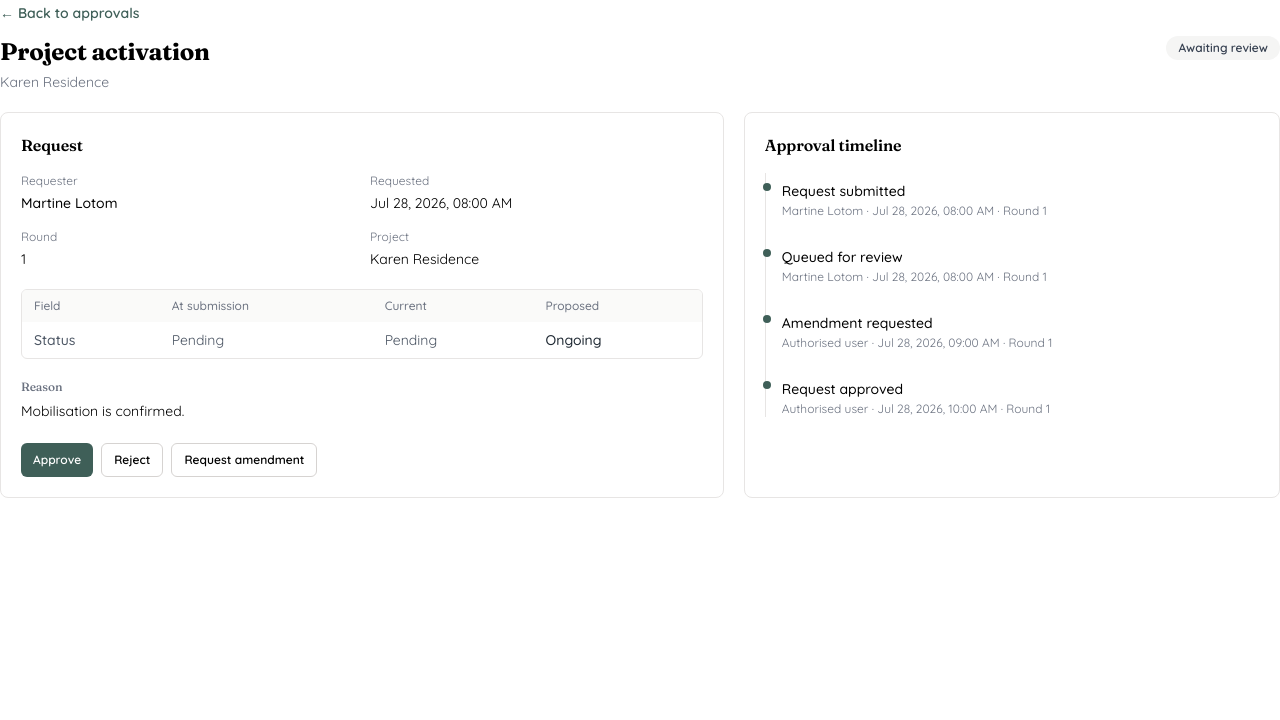
Test: Admin approval detail › handles network rejection without a false success state
Click the button "Approve". click: (57, 460)
box: [21,443,93,477]
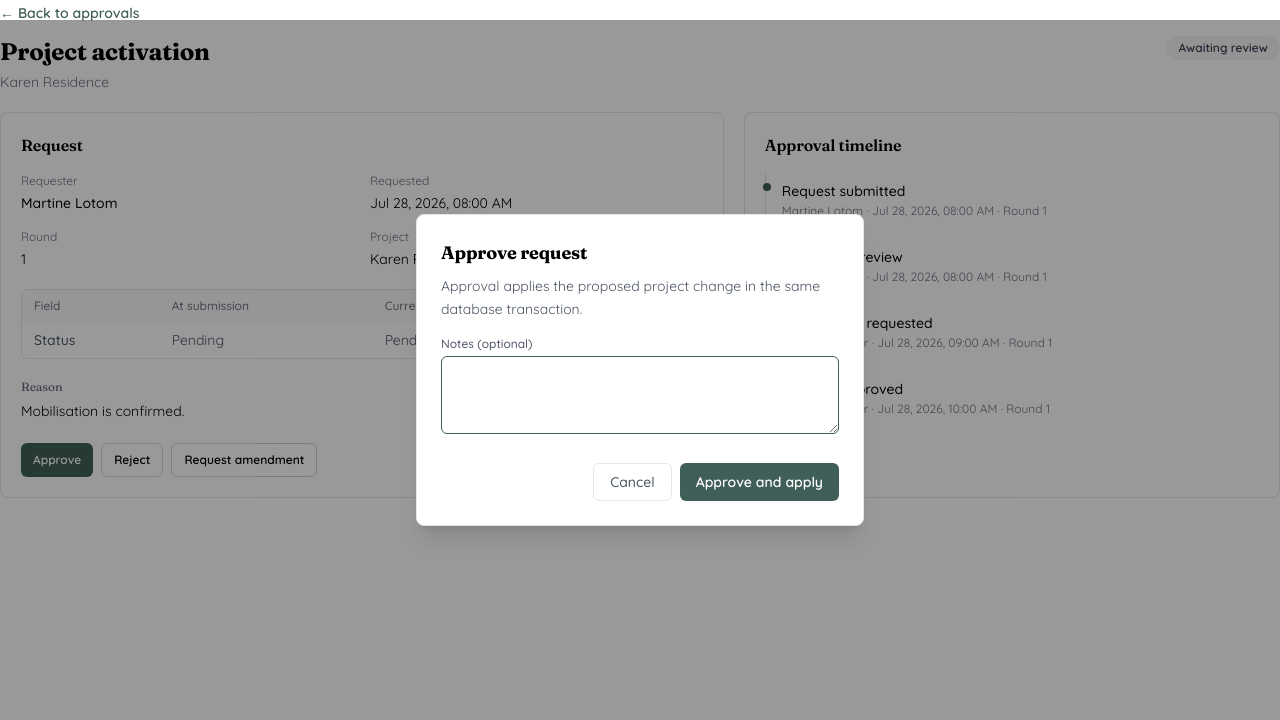
Click the button "Approve and apply". click: (759, 482)
box: [680,463,839,501]
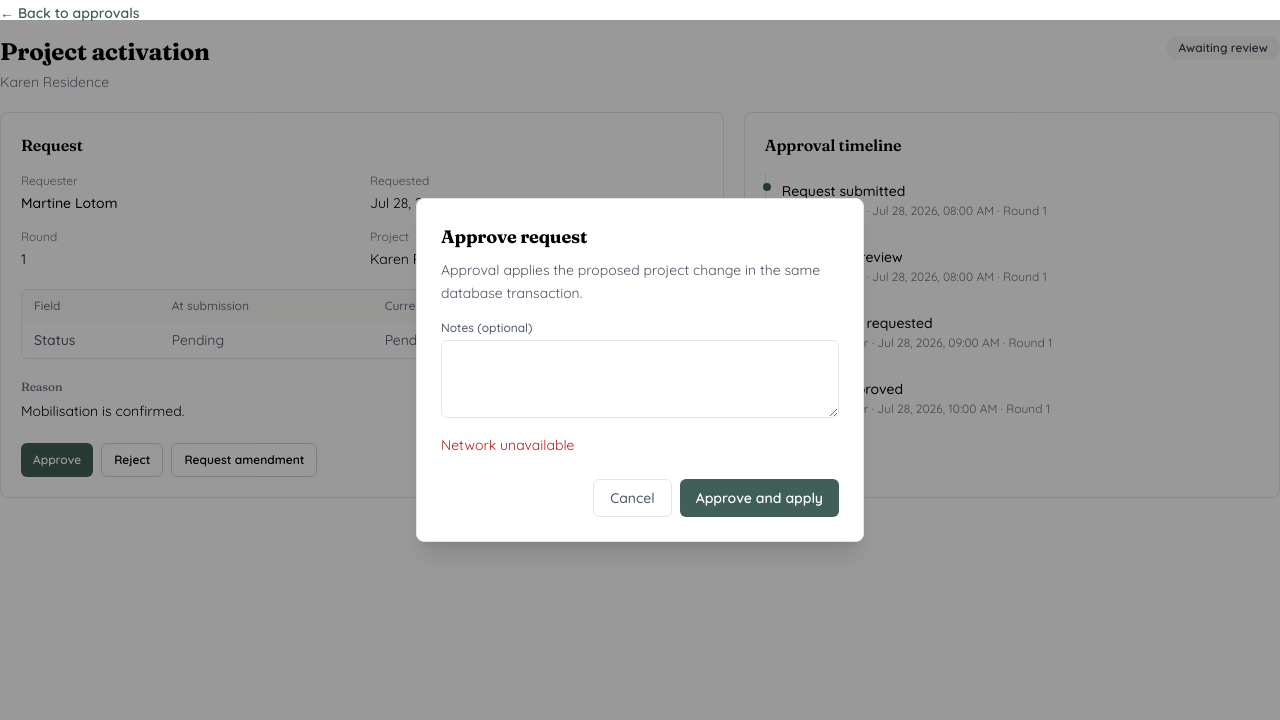
Now the dialog "Approve request" is shown, box [416,198,864,542]
Now the button "Approve and apply" is enabled, box [680,479,839,517]
Now the message reads "Network unavailable", box [441,436,574,454]
